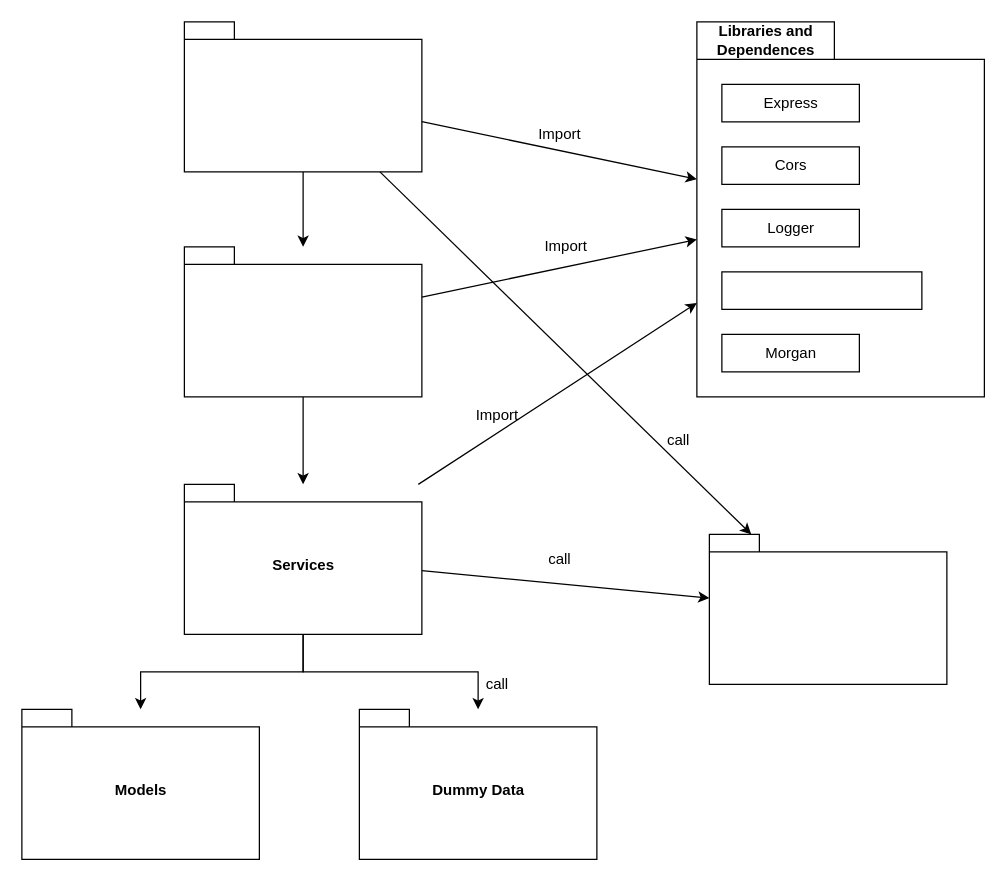
Some shapes in this 1006 by 881 pixel diagram are drawn without their labels. The shapes that lost their labels are listed below. From the top down, each one's centre as x and y in pixels, then its label:
At point (302, 96): "Controller".
At point (821, 290): "map-nearest-location".
At point (302, 321): "Routes".
At point (827, 608): "Exceptions".
